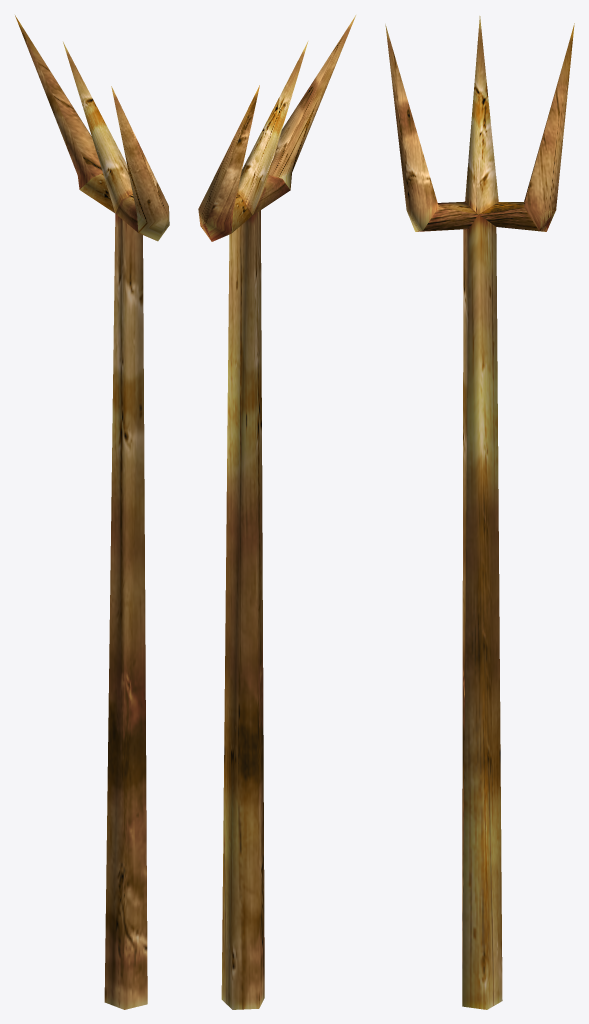
The model's file is fork01.FBX.
The picture shows the model from 3 angles, left to right: view 1: azimuth 30°, elevation 25°; view 2: azimuth 150°, elevation 25°; view 3: azimuth 270°, elevation 25°; orthographic projection. The views are drawn at different scales.
Parts seen in each view (by area): view 1: fork01; view 2: fork01; view 3: fork01.
Boxes of the visible parts, x1,y1,x2,y2 form: fork01: [15, 15, 169, 1009]; fork01: [198, 15, 355, 1009]; fork01: [385, 16, 574, 1009].
Bounding box in the file's own units: 0.1934 × 0.389 × 2.17.
